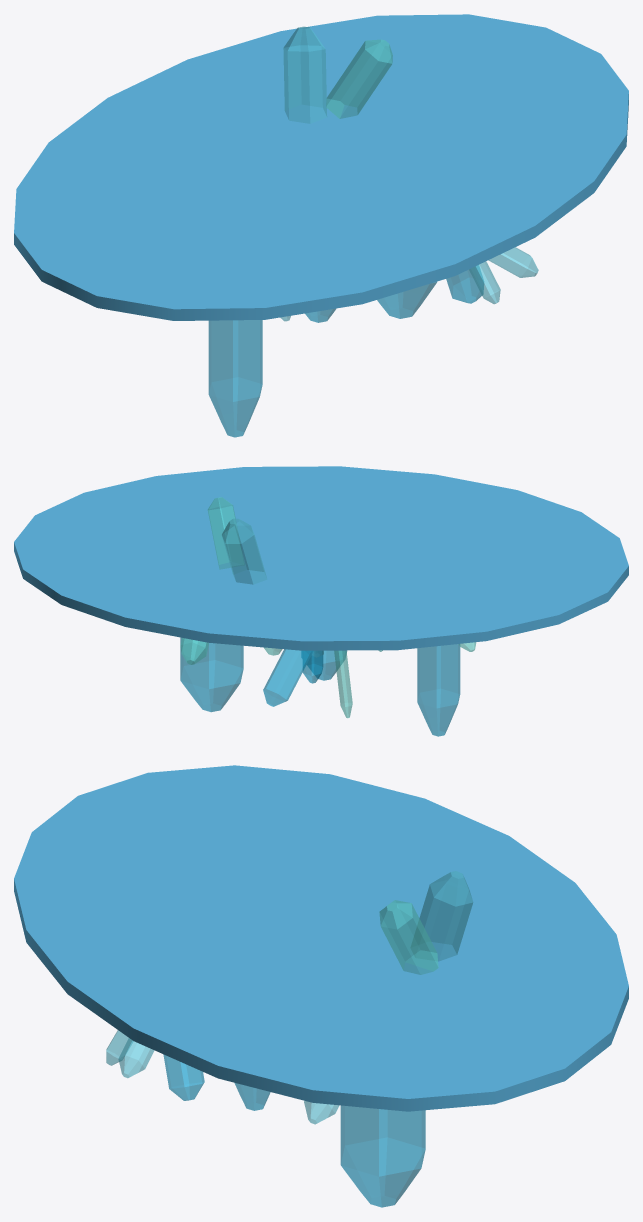
The picture shows the model from 3 angles, top to bottom: view 1: azimuth 30°, elevation 25°; view 2: azimuth 150°, elevation 25°; view 3: azimuth 270°, elevation 25°; orthographic projection. The views are drawn at different scales.
Visible parts, largest first — view 1: pCylinder404, pCylinder411, pCylinder394, pCylinder393, pCylinder402, pCylinder408, pCylinder407, pCylinder401; view 2: pCylinder404, pCylinder402, pCylinder411, pCylinder394, pCylinder393, pCylinder409, pCylinder414, pCylinder419, pCylinder412, pCylinder403; view 3: pCylinder404, pCylinder402, pCylinder394, pCylinder393, pCylinder408, pCylinder407.
Boxes of the visible parts, box(x1,y1,x2,y2) form: pCylinder404: box(14, 14, 628, 320); pCylinder411: box(208, 320, 262, 437); pCylinder394: box(283, 26, 327, 123); pCylinder393: box(326, 39, 392, 118); pCylinder402: box(377, 282, 436, 318); pCylinder408: box(446, 265, 483, 303); pCylinder407: box(488, 247, 538, 277); pCylinder401: box(469, 261, 500, 303); pCylinder404: box(14, 466, 628, 650); pCylinder402: box(180, 637, 243, 711); pCylinder411: box(417, 644, 460, 736); pCylinder394: box(222, 518, 266, 584); pCylinder393: box(207, 497, 244, 569); pCylinder409: box(263, 649, 313, 706); pCylinder414: box(334, 650, 352, 717); pCylinder419: box(301, 650, 346, 680); pCylinder412: box(302, 650, 323, 683); pCylinder403: box(180, 638, 208, 664); pCylinder404: box(14, 765, 628, 1111); pCylinder402: box(340, 1105, 425, 1207); pCylinder394: box(411, 871, 473, 961); pCylinder393: box(379, 900, 438, 974); pCylinder408: box(163, 1054, 204, 1100); pCylinder407: box(118, 1038, 154, 1077).
Bounding box in the file's own units: 5.23 × 2.33 × 4.07.
